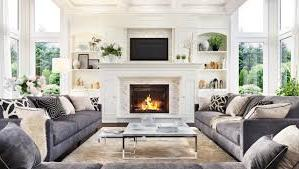TV: (131, 37, 168, 62)
door: (277, 34, 297, 94)
light: (50, 57, 72, 86)
sofa: (0, 132, 299, 169), (195, 92, 299, 157), (0, 94, 102, 159)
table: (122, 122, 198, 156), (95, 128, 137, 152)
